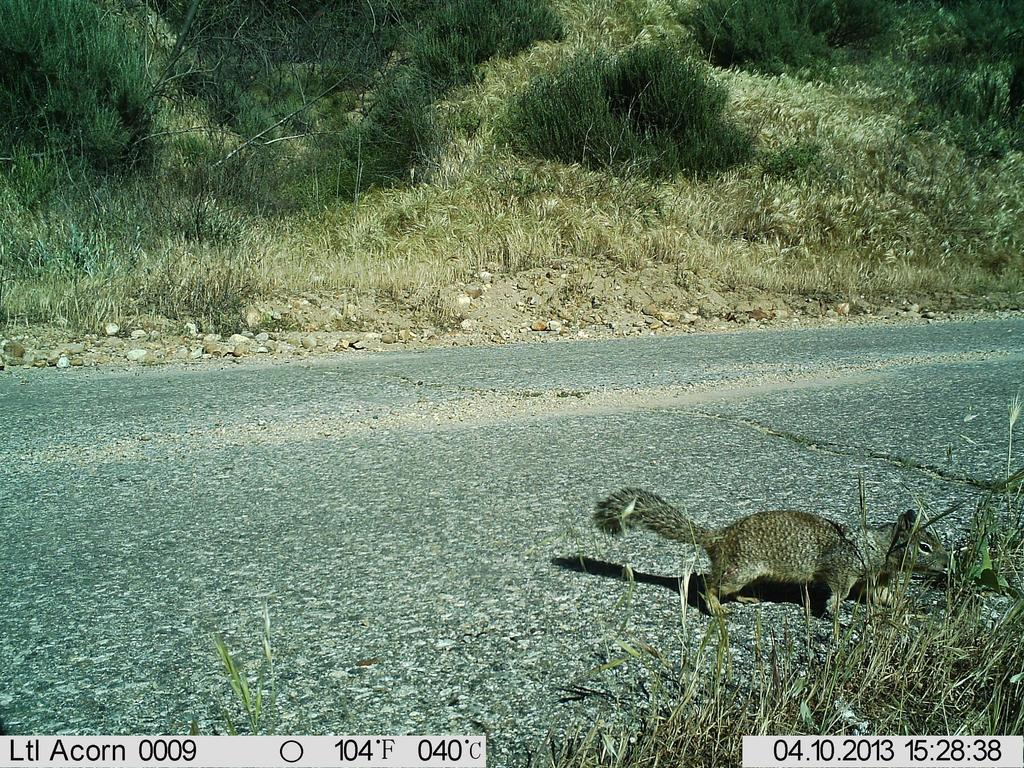squirrel: (584, 484, 967, 637)
